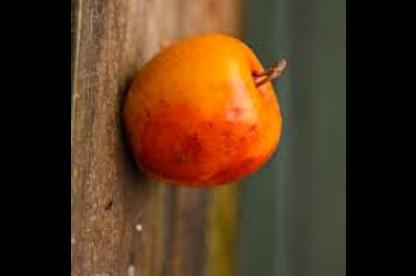defect: (122, 89, 288, 203)
